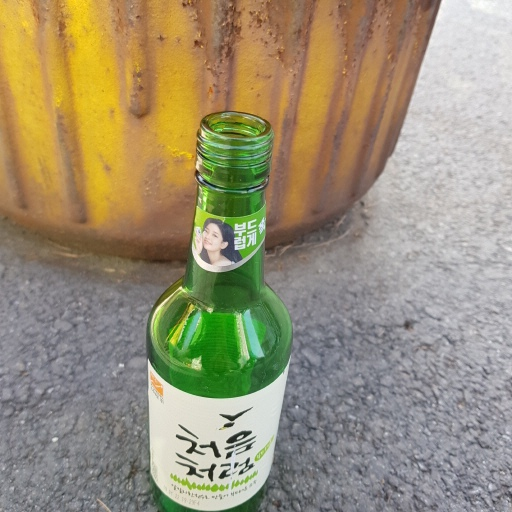Glass_0: (139, 109, 294, 512)
